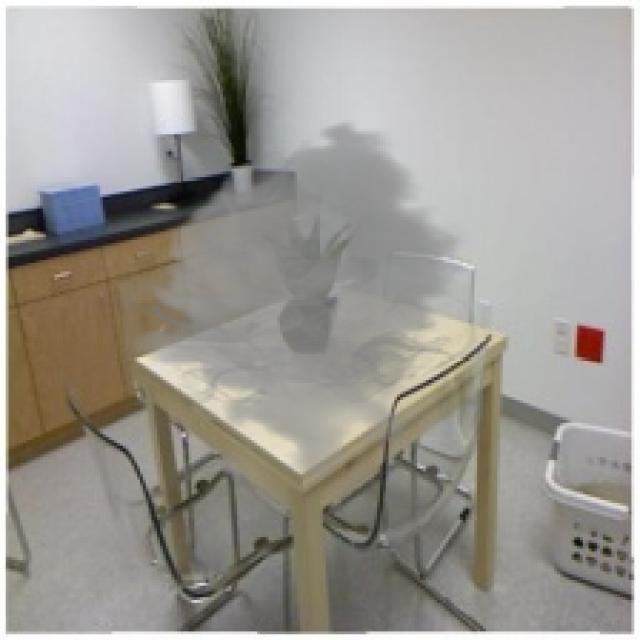smoke: (117, 120, 494, 483)
